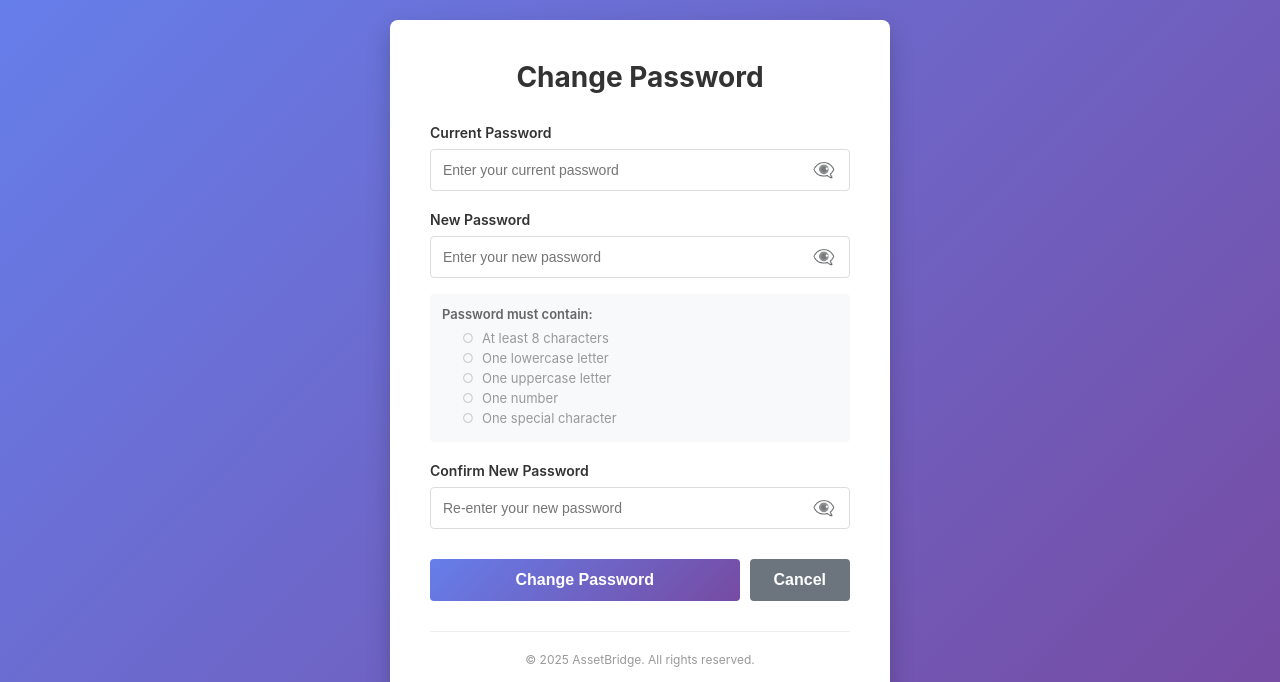
ChangePassword Component › should show validation error for password missing lowercase
The width and height of the screenshot is (1280, 682).
Expected: the heading "Change Password" is shown, [516, 60, 764, 94]
Type "OldPassword123!" into the password field labelled "Current Password". click: (640, 170)
box: [430, 149, 850, 191]
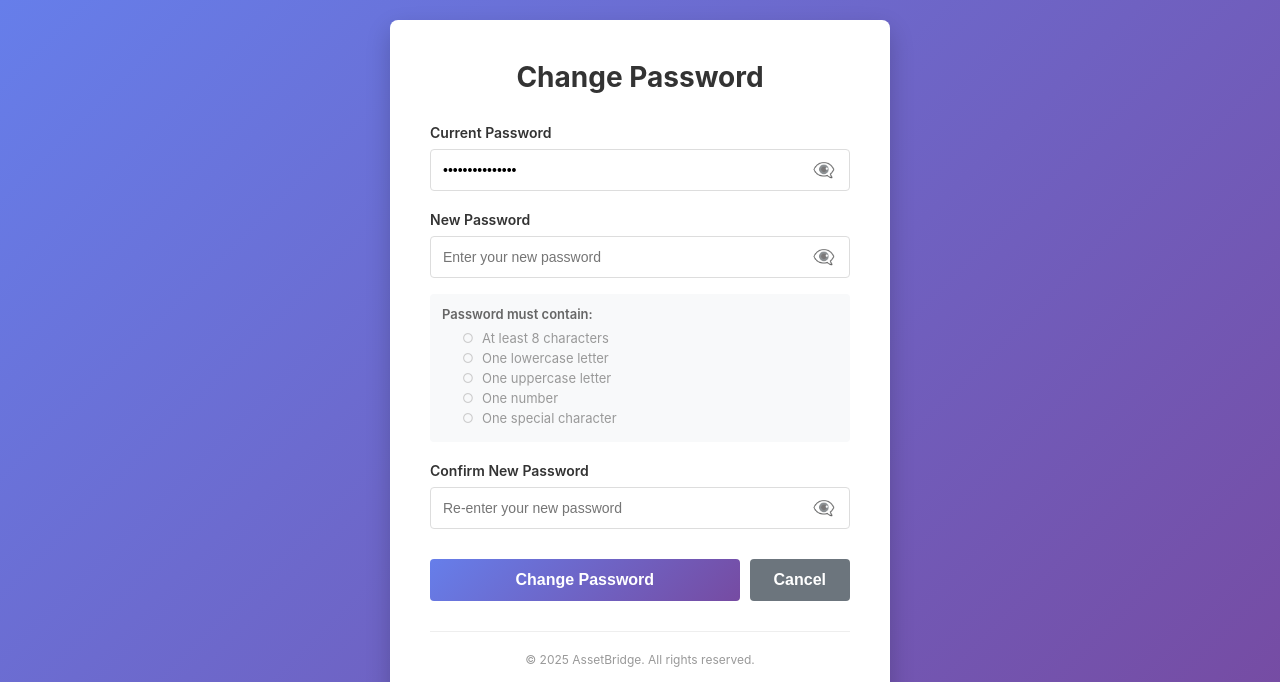
Type "UPPERCASE123!" into the password field labelled "New Password". click: (640, 257)
box: [430, 236, 850, 278]
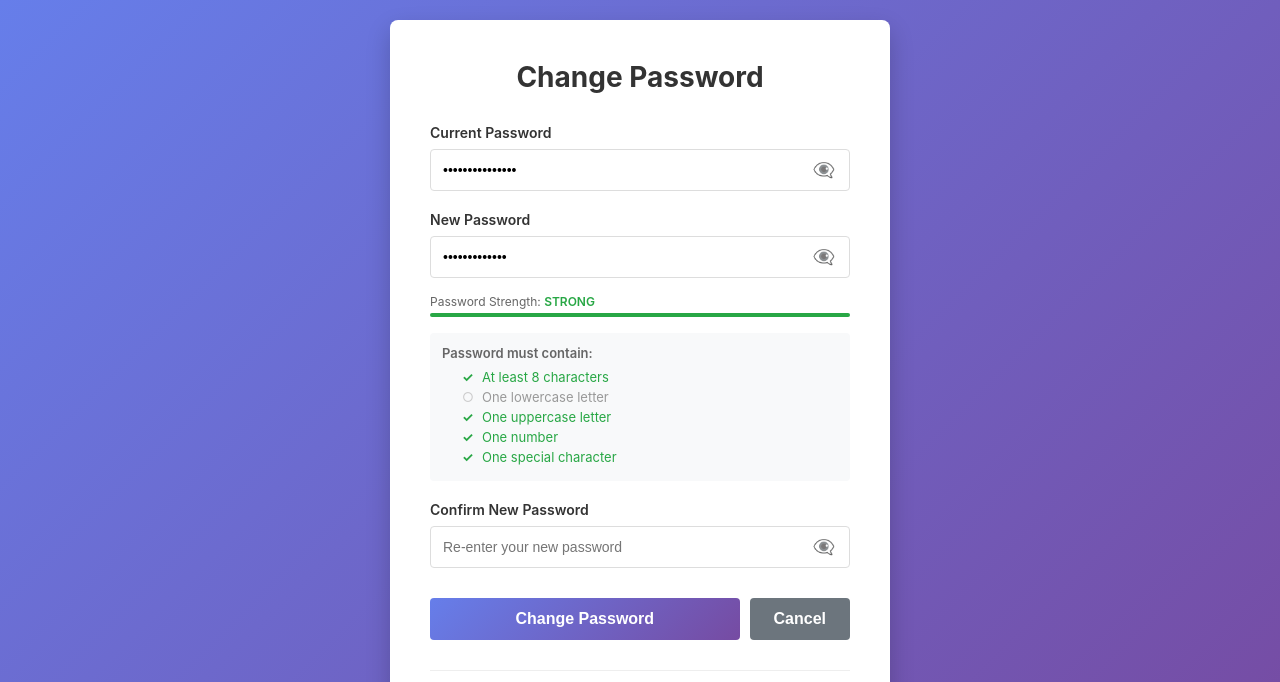
Type "UPPERCASE123!" into the password field labelled "Confirm New Password". click: (640, 547)
box: [430, 526, 850, 568]
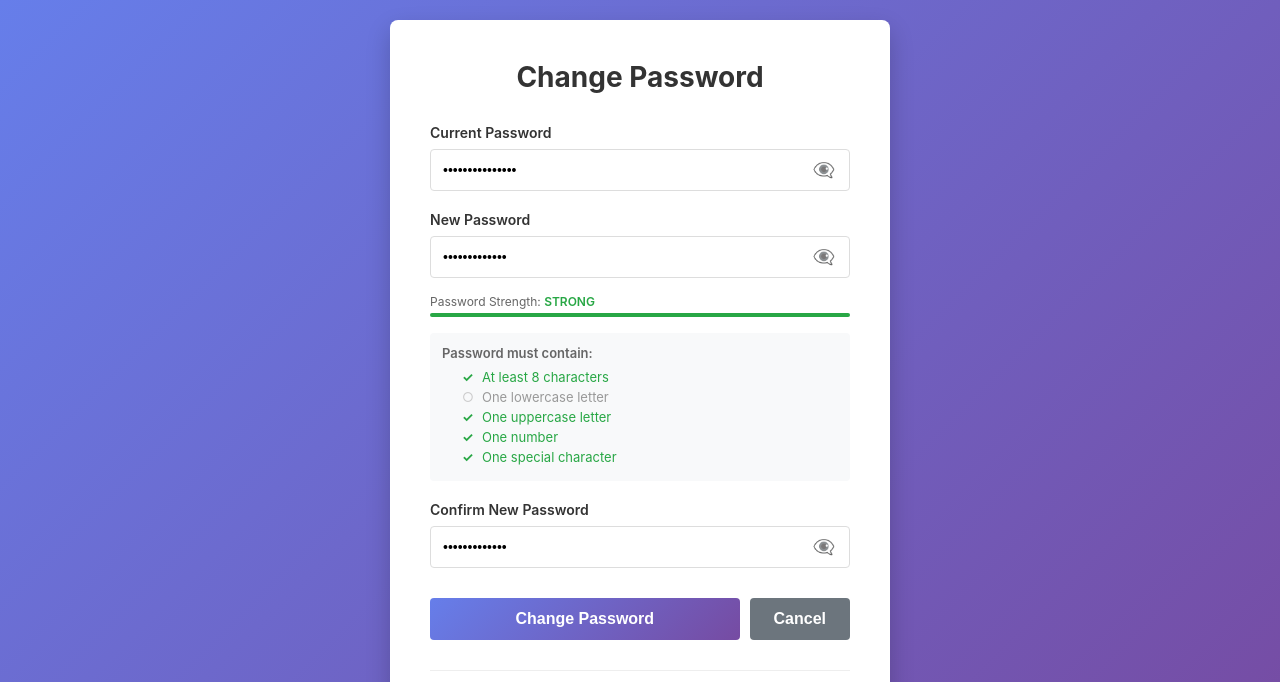
Click the button "Change Password". click: (585, 619)
box: [430, 598, 740, 640]
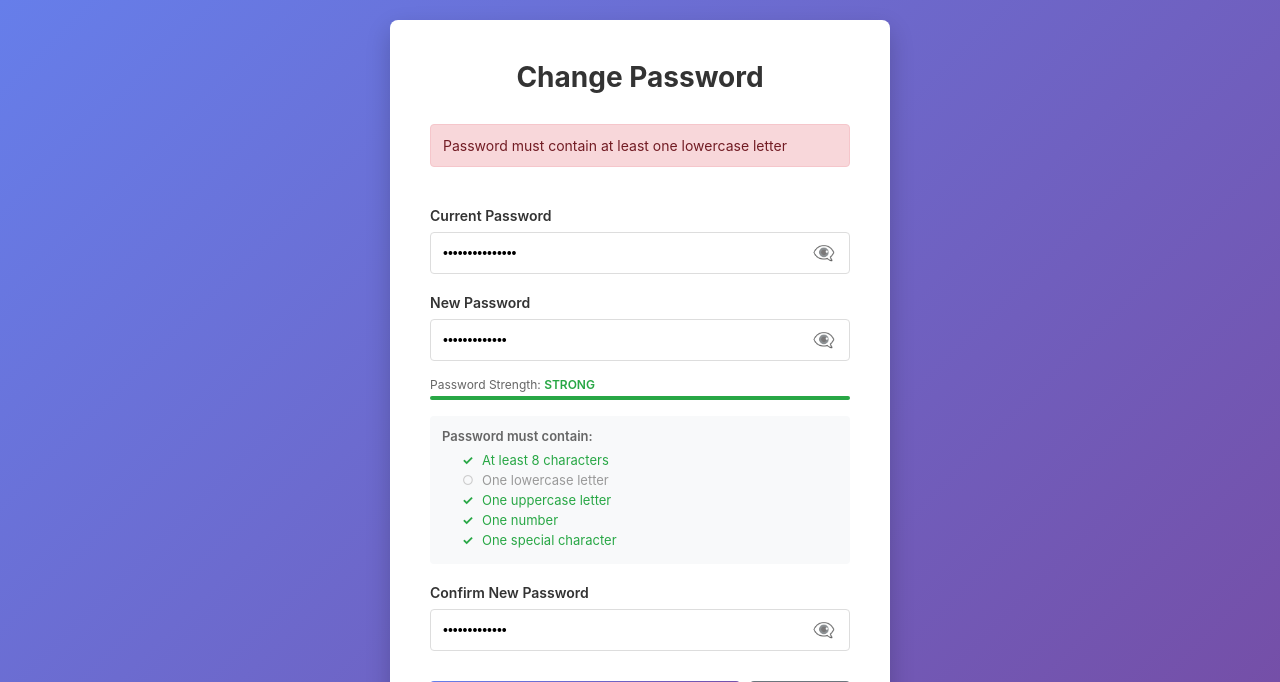
Expected: the text "Password must contain at least one lowercase letter" is shown, [430, 124, 850, 167]
